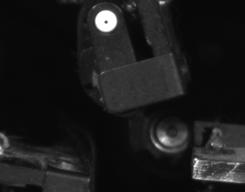fiber: (89, 7, 122, 39)
